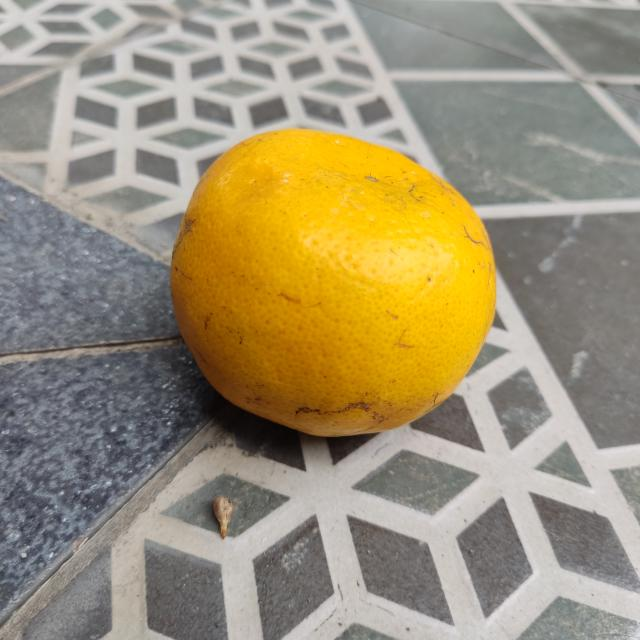orange: (169, 120, 499, 440)
